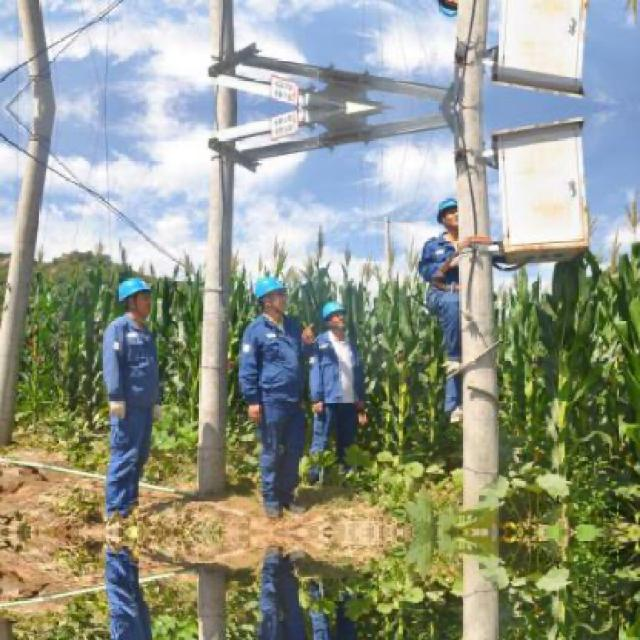con casco: (222, 283, 304, 332), (405, 186, 486, 234), (113, 274, 164, 318), (314, 297, 359, 339)
